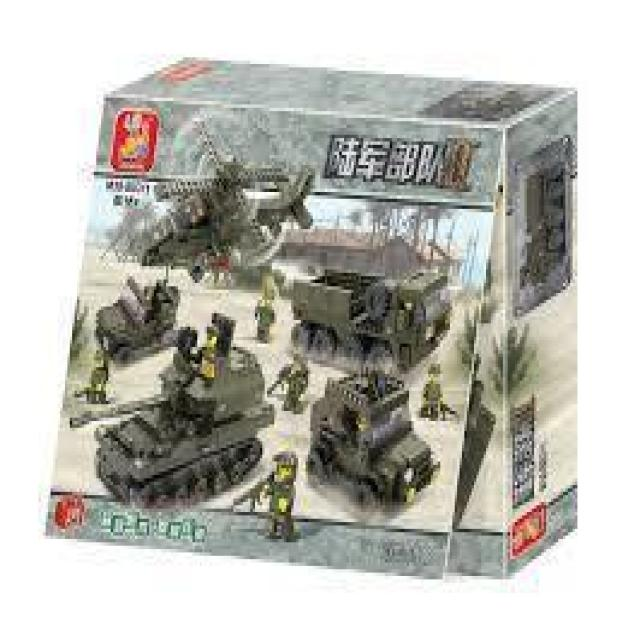Tanks: (102, 328, 273, 497)
